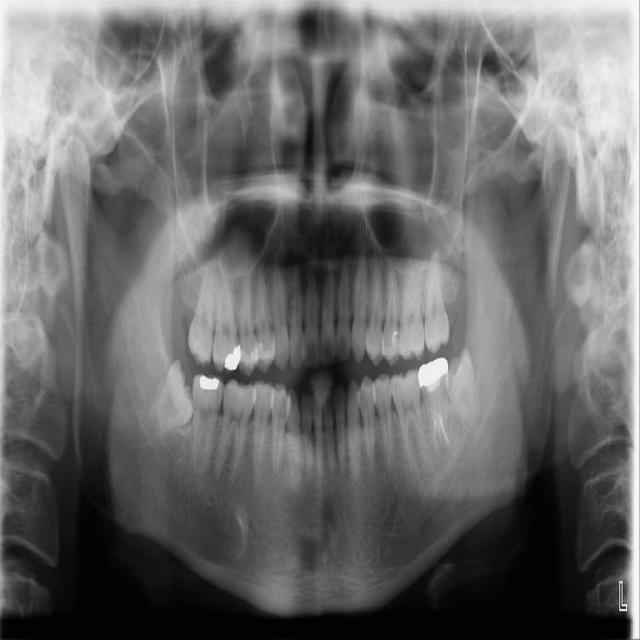Crown: (418, 358, 449, 392)
Filling: (223, 343, 242, 371), (197, 374, 220, 392), (391, 329, 400, 350)
Root Canal Treatment: (442, 409, 450, 450), (435, 418, 442, 454)
impacted tooth: (148, 359, 192, 443), (448, 348, 484, 423)
